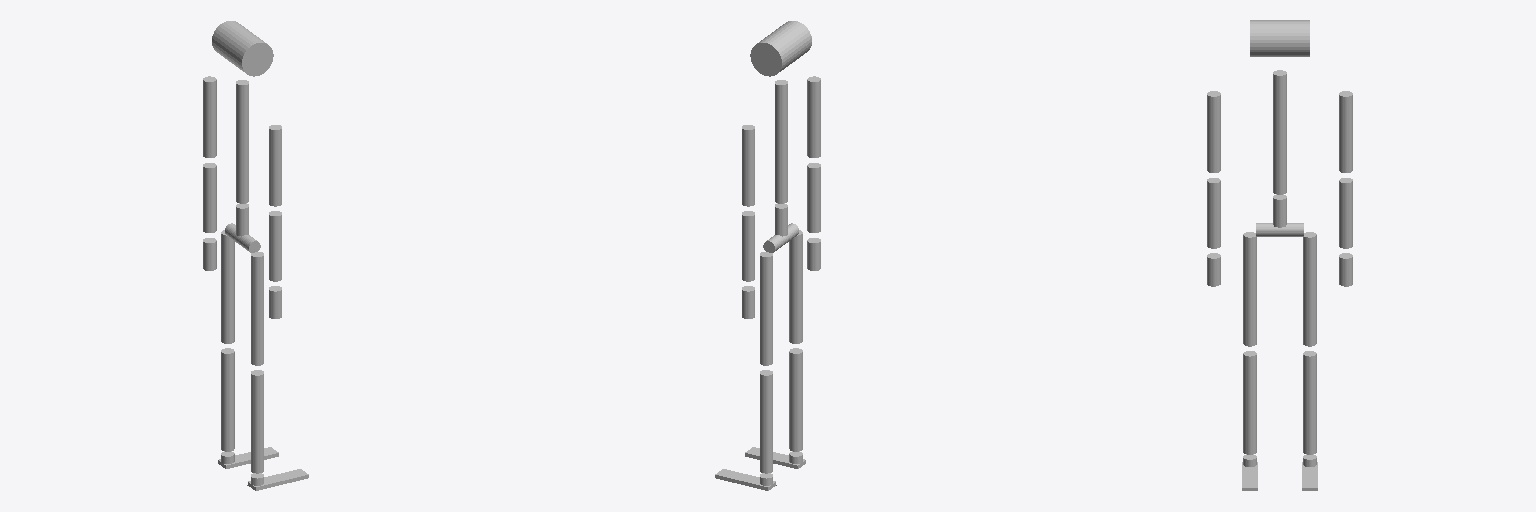
--- Render facts (derived) ---
The picture shows the robot from 3 angles, left to right: view 1: azimuth 30°, elevation 25°; view 2: azimuth 150°, elevation 25°; view 3: azimuth 270°, elevation 25°; orthographic projection.
Robot: atlas — 44 links, 43 joints (27 revolute, 16 fixed); root link base_link; default pose: all joints at 0.
Links seen in each view (by area): view 1: NeckPitch_link, Torso, LHipRoll_link, RHipRoll_link, LKneePitch_link, RKneePitch_link, LShoulderRoll_link, RShoulderRoll_link, LElbowPitch_link, RElbowPitch_link, RFoot; view 2: NeckPitch_link, Torso, RHipRoll_link, LHipRoll_link, RKneePitch_link, LKneePitch_link, RShoulderRoll_link, LShoulderRoll_link, RElbowPitch_link, LElbowPitch_link, LFoot; view 3: NeckPitch_link, Torso, LHipRoll_link, RHipRoll_link, LKneePitch_link, RKneePitch_link, LShoulderRoll_link, RShoulderRoll_link, LElbowPitch_link, RElbowPitch_link, Pelvis-link2.
Boxes of the visible links, <box> form: NeckPitch_link: <box>212,21,273,76</box>; Torso: <box>236,80,248,203</box>; LHipRoll_link: <box>221,230,234,343</box>; RHipRoll_link: <box>251,252,263,365</box>; LKneePitch_link: <box>221,348,234,451</box>; RKneePitch_link: <box>251,370,263,473</box>; LShoulderRoll_link: <box>203,76,216,157</box>; RShoulderRoll_link: <box>269,125,281,206</box>; LElbowPitch_link: <box>203,163,216,232</box>; RElbowPitch_link: <box>269,211,281,281</box>; RFoot: <box>248,469,308,490</box>; NeckPitch_link: <box>750,21,811,76</box>; Torso: <box>775,80,787,203</box>; RHipRoll_link: <box>789,230,802,343</box>; LHipRoll_link: <box>760,252,772,365</box>; RKneePitch_link: <box>789,348,802,451</box>; LKneePitch_link: <box>760,370,772,473</box>; RShoulderRoll_link: <box>807,76,820,157</box>; LShoulderRoll_link: <box>742,125,754,206</box>; RElbowPitch_link: <box>807,163,820,232</box>; LElbowPitch_link: <box>742,211,754,281</box>; LFoot: <box>715,469,775,490</box>; NeckPitch_link: <box>1250,20,1309,56</box>; Torso: <box>1273,70,1286,194</box>; LHipRoll_link: <box>1303,232,1316,346</box>; RHipRoll_link: <box>1243,232,1256,346</box>; LKneePitch_link: <box>1303,351,1316,454</box>; RKneePitch_link: <box>1243,351,1256,454</box>; LShoulderRoll_link: <box>1339,91,1352,172</box>; RShoulderRoll_link: <box>1207,91,1220,172</box>; LElbowPitch_link: <box>1339,178,1352,248</box>; RElbowPitch_link: <box>1207,178,1220,248</box>; Pelvis-link2: <box>1256,223,1303,236</box>.
Bounding box of the posed robot: 0.2672 × 0.5321 × 1.8 m (x, y, z).
Geometry: primitives only (box / cylinder / sphere), no mesh files.

robot.urdf — atlas:
<?xml version="1.0" ?>
<!-- =================================================================================== -->
<!-- |    This document was autogenerated by xacro from atlas_robot_pre_fuerte.urdf.xacro | -->
<!-- |    EDITING THIS FILE BY HAND IS NOT RECOMMENDED                                 | -->
<!-- =================================================================================== -->
<robot name="atlas" xmlns:controller="http://playerstage.sourceforge.net/gazebo/xmlschema/#controller" xmlns:interface="http://playerstage.sourceforge.net/gazebo/xmlschema/#interface" xmlns:sensor="http://playerstage.sourceforge.net/gazebo/xmlschema/#sensor" xmlns:xacro="http://ros.org/wiki/xacro">
  <!--
  ROS urdf definition of Atlas humanoid robot from Boston Dynamics. Represents the kinematic structure of the robot which is based on the 50th percentile male anthropometry,. 

This file has been based upon a similar urdf file for the Nao humanoid robot (by Aldebaran Robotics) provided in the Nao-Stack of University of Freiburg (Authors: Armin Hornung, Stefan Osswald) which is available at: is available at: http://code.google.com/p/alufr-ros-pkg/.

  Joint names and properties are according to the Boston Dynamics Slide during DRC proposers day talk.
  -->
  <material name="LightGrey">
    <color rgba="0.8 0.8 0.8 1.0"/>
  </material>
  <material name="Grey">
    <color rgba="0.6 0.6 0.6 1.0"/>
  </material>
  <material name="DarkGrey">
    <color rgba="0.3 0.3 0.3 1.0"/>
  </material>
  <material name="Black">
    <color rgba="0.1 0.1 0.1 1.0"/>
  </material>
  <link name="base_link">
    <inertial>
      <origin rpy="0 0 0" xyz="0 0 0"/>
      <mass value="0.01"/>
      <inertia ixx="0.0001" ixy="0.0" ixz="0.0" iyy="0.0001" iyz="0.0" izz="0.0001"/>
    </inertial>
  </link>
  <link name="Back">
    <inertial>
      <mass value="0.98"/>
      <inertia ixx="0.0142307887763" ixy="0.0" ixz="0.0" iyy="0.0142307887763" iyz="0.0" izz="0.0232537942048"/>
    </inertial>
  </link>
  <link name="Pelvis-link1">
    <inertial>
      <mass value="2.85"/>
      <inertia ixx="0.0167937478046" ixy="0.0" ixz="0.0" iyy="0.0130953182366" iyz="0.0" izz="0.0188435137939"/>
    </inertial>
    <visual>
      <origin rpy="0 0 0" xyz="0 0 -0.076245974"/>
      <geometry>
        <cylinder length="0.112491948" radius="0.025"/>
      </geometry>
      <material name="LightGrey"/>
    </visual>
    <collision>
      <origin rpy="0 0 0" xyz="0 0 -0.076245974"/>
      <geometry>
        <cylinder length="0.152491948" radius="0.025"/>
      </geometry>
    </collision>
  </link>
  <link name="Pelvis-link2">
    <inertial>
      <mass value="2.85"/>
      <inertia ixx="0.0167937478046" ixy="0.0" ixz="0.0" iyy="0.0188435137939" iyz="0.0" izz="0.0130953182366"/>
    </inertial>
    <visual>
      <origin rpy="1.57079632679 0 0" xyz="0 0 0"/>
      <geometry>
        <cylinder length="0.17784564" radius="0.025"/>
      </geometry>
      <material name="LightGrey"/>
    </visual>
    <collision>
      <origin rpy="1.57079632679 0 0" xyz="0 0 0"/>
      <geometry>
        <cylinder length="0.21784564" radius="0.025"/>
      </geometry>
    </collision>
  </link>
  <link name="BackYaw_link">
    <inertial>
      <mass value="0.98"/>
      <inertia ixx="0.0168406694011" ixy="0.0" ixz="0.0" iyy="0.0168406694011" iyz="0.0" izz="0.0284735554544"/>
    </inertial>
  </link>
  <link name="BackPitch_link">
    <inertial>
      <mass value="0.98"/>
      <inertia ixx="0.0391167022824" ixy="0.0" ixz="0.0" iyy="0.0213060832327" iyz="0.0" izz="0.0230184023975"/>
    </inertial>
  </link>
  <link name="BackRoll_link">
    <inertial>
      <mass value="0.98"/>
      <inertia ixx="0.0391167022824" ixy="0.0" ixz="0.0" iyy="0.0213060832327" iyz="0.0" izz="0.0230184023975"/>
    </inertial>
  </link>
  <link name="Torso">
    <!-- assuming the rotational inertia of the torso is of a cuboid -->
    <inertial>
      <mass value="15.347"/>
      <inertia ixx="0.612575540743" ixy="0.0" ixz="0.0" iyy="0.333657611605" iyz="0.0" izz="0.360472879178"/>
    </inertial>
    <visual>
      <origin rpy="0 0 0" xyz="0.0 0.0 0.23927308"/>
      <geometry>
        <cylinder length="0.47854616" radius="0.025"/>
      </geometry>
      <material name="LightGrey"/>
    </visual>
    <collision>
      <origin rpy="0 0 0" xyz="0.0 0.0 0.23927308"/>
      <geometry>
        <box size=" 0.178562 0.4999736 0.47854616"/>
      </geometry>
    </collision>
  </link>
  <link name="NeckYaw_link">
    <inertial>
      <mass value="0.9"/>
      <inertia ixx="0.00530271247008" ixy="0.0" ixz="0.0" iyy="0.00530271247008" iyz="0.0" izz="0.00201768391825"/>
    </inertial>
  </link>
  <link name="NeckPitch_link">
    <inertial>
      <mass value="0.9"/>
      <inertia ixx="0.00530271247008" ixy="0.0" ixz="0.0" iyy="0.00530271247008" iyz="0.0" izz="0.00201768391825"/>
    </inertial>
    <visual>
      <origin rpy="1.57079632679 0 0" xyz="0 0 0.13749274"/>
      <geometry>
        <cylinder length="0.22141688" radius="0.06696075"/>
        <!--  <sphere radius="${(l_head/2)*height}"/>-->
      </geometry>
      <material name="LightGrey"/>
    </visual>
    <collision>
      <origin rpy="1.57 0 0" xyz="0 0 0.13749274"/>
      <geometry>
        <cylinder length="0.23927308" radius="0.06696075"/>
      </geometry>
    </collision>
  </link>
  <link name="LShoulderYaw_link">
    <inertial>
      <mass value="2.18522222222"/>
      <inertia ixx="0.0231667622255" ixy="0.0" ixz="0.0" iyy="0.0231667622255" iyz="0.0" izz="0.00217732727683"/>
    </inertial>
  </link>
  <link name="LShoulderPitch_link">
    <inertial>
      <mass value="2.18522222222"/>
      <inertia ixx="0.0231667622255" ixy="0.0" ixz="0.0" iyy="0.0231667622255" iyz="0.0" izz="0.00217732727683"/>
    </inertial>
  </link>
  <link name="LShoulderRoll_link">
    <inertial>
      <mass value="2.18522222222"/>
      <inertia ixx="0.0231667622255" ixy="0.0" ixz="0.0" iyy="0.0231667622255" iyz="0.0" izz="0.00217732727683"/>
    </inertial>
    <visual>
      <origin rpy="0 0 0" xyz="0 0 -0.17409795"/>
      <geometry>
        <cylinder length="0.3081959" radius="0.025"/>
      </geometry>
      <material name="LightGrey"/>
    </visual>
    <collision>
      <origin rpy="0 0 0" xyz="0 0 -0.17409795"/>
      <geometry>
        <cylinder length="0.3481959" radius="0.025"/>
      </geometry>
    </collision>
  </link>
  <link name="LElbowPitch_link">
    <inertial>
      <mass value="3.27783333333"/>
      <inertia ixx="0.0268028987778" ixy="0.0" ixz="0.0" iyy="0.0268028987778" iyz="0.0" izz="0.00326599091525"/>
    </inertial>
    <visual>
      <origin rpy="0 0 0" xyz="0 0 -0.1517777"/>
      <geometry>
        <cylinder length="0.2635554" radius="0.025"/>
      </geometry>
      <material name="LightGrey"/>
    </visual>
    <collision>
      <origin rpy="0 0 0" xyz="0 0 -0.1517777"/>
      <geometry>
        <cylinder length="0.3035554" radius="0.025"/>
      </geometry>
    </collision>
  </link>
  <link name="LWristYaw_link">
    <inertial>
      <mass value="1.0"/>
      <inertia ixx="0.0048720194876" ixy="0.0" ixz="0.0" iyy="0.0048720194876" iyz="0.0" izz="0.00199277424025"/>
    </inertial>
  </link>
  <link name="LWristRoll_link">
    <inertial>
      <mass value="1.0"/>
      <inertia ixx="0.0048720194876" ixy="0.0" ixz="0.0" iyy="0.0048720194876" iyz="0.0" izz="0.00199277424025"/>
    </inertial>
    <visual>
      <origin rpy="0 0 0" xyz="0 0 -0.076245974"/>
      <geometry>
        <cylinder length="0.112491948" radius="0.025"/>
      </geometry>
      <material name="LightGrey"/>
    </visual>
    <collision>
      <origin rpy="0 0 0" xyz="0 0 -0.076245974"/>
      <geometry>
        <cylinder length="0.152491948" radius="0.025"/>
      </geometry>
    </collision>
  </link>
  <link name="RShoulderYaw_link">
    <inertial>
      <mass value="2.18522222222"/>
      <inertia ixx="0.0231667622255" ixy="0.0" ixz="0.0" iyy="0.0231667622255" iyz="0.0" izz="0.00217732727683"/>
    </inertial>
  </link>
  <link name="RShoulderPitch_link">
    <inertial>
      <mass value="2.18522222222"/>
      <inertia ixx="0.0231667622255" ixy="0.0" ixz="0.0" iyy="0.0231667622255" iyz="0.0" izz="0.00217732727683"/>
    </inertial>
  </link>
  <link name="RShoulderRoll_link">
    <inertial>
      <mass value="2.18522222222"/>
      <inertia ixx="0.0231667622255" ixy="0.0" ixz="0.0" iyy="0.0231667622255" iyz="0.0" izz="0.00217732727683"/>
    </inertial>
    <visual>
      <origin rpy="0 0 0" xyz="0 0 -0.17409795"/>
      <geometry>
        <cylinder length="0.3081959" radius="0.025"/>
      </geometry>
      <material name="LightGrey"/>
    </visual>
    <collision>
      <origin rpy="0 0 0" xyz="0 0 -0.17409795"/>
      <geometry>
        <cylinder length="0.3481959" radius="0.025"/>
      </geometry>
    </collision>
  </link>
  <link name="RElbowPitch_link">
    <inertial>
      <mass value="3.27783333333"/>
      <inertia ixx="0.0268028987778" ixy="0.0" ixz="0.0" iyy="0.0268028987778" iyz="0.0" izz="0.00326599091525"/>
    </inertial>
    <visual>
      <origin rpy="0 0 0" xyz="0 0 -0.1517777"/>
      <geometry>
        <cylinder length="0.2635554" radius="0.025"/>
      </geometry>
      <material name="LightGrey"/>
    </visual>
    <collision>
      <origin rpy="0 0 0" xyz="0 0 -0.1517777"/>
      <geometry>
        <cylinder length="0.3035554" radius="0.025"/>
      </geometry>
    </collision>
  </link>
  <link name="RWristYaw_link">
    <inertial>
      <mass value="1.0"/>
      <inertia ixx="0.0048720194876" ixy="0.0" ixz="0.0" iyy="0.0048720194876" iyz="0.0" izz="0.00199277424025"/>
    </inertial>
  </link>
  <link name="RWristRoll_link">
    <inertial>
      <mass value="1.0"/>
      <inertia ixx="0.0048720194876" ixy="0.0" ixz="0.0" iyy="0.0048720194876" iyz="0.0" izz="0.00199277424025"/>
    </inertial>
    <visual>
      <origin rpy="0 0 0" xyz="0 0 -0.076245974"/>
      <geometry>
        <cylinder length="0.112491948" radius="0.025"/>
      </geometry>
      <material name="LightGrey"/>
    </visual>
    <collision>
      <origin rpy="0 0 0" xyz="0 0 -0.076245974"/>
      <geometry>
        <cylinder length="0.152491948" radius="0.025"/>
      </geometry>
    </collision>
  </link>
  <link name="LHipYaw_link">
    <inertial>
      <mass value="3.38522222222"/>
      <inertia ixx="0.0670316913245" ixy="0.0" ixz="0.0" iyy="0.0670316913245" iyz="0.0" izz="0.00485710822221"/>
    </inertial>
  </link>
  <link name="LHipPitch_link">
    <inertial>
      <mass value="3.38522222222"/>
      <inertia ixx="0.0670316913245" ixy="0.0" ixz="0.0" iyy="0.0670316913245" iyz="0.0" izz="0.00485710822221"/>
    </inertial>
  </link>
  <link name="LHipRoll_link">
    <inertial>
      <mass value="3.38522222222"/>
      <inertia ixx="0.0670316913245" ixy="0.0" ixz="0.0" iyy="0.0670316913245" iyz="0.0" izz="0.00485710822221"/>
    </inertial>
    <visual>
      <origin rpy="0 0 0" xyz="0.0 0.0 -0.23927308"/>
      <geometry>
        <cylinder length="0.43854616" radius="0.025"/>
      </geometry>
      <material name="LightGrey"/>
    </visual>
    <collision>
      <origin rpy="0 0 0" xyz="0.0 0.0 -0.23927308"/>
      <geometry>
        <cylinder length="0.47854616" radius="0.025"/>
      </geometry>
    </collision>
  </link>
  <link name="LKneePitch_link">
    <inertial>
      <mass value="5.07783333333"/>
      <inertia ixx="0.0839686075882" ixy="0.0" ixz="0.0" iyy="0.0839686075882" iyz="0.0" izz="0.00728566233332"/>
    </inertial>
    <visual>
      <origin rpy="0 0 0" xyz="0 0 -0.21784564"/>
      <geometry>
        <cylinder length="0.39569128" radius="0.025"/>
      </geometry>
      <material name="LightGrey"/>
    </visual>
    <collision>
      <origin rpy="0 0 0" xyz="0 0 -0.21784564"/>
      <geometry>
        <cylinder length="0.43569128" radius="0.025"/>
      </geometry>
    </collision>
  </link>
  <link name="LAnklePitch_link">
    <inertial>
      <mass value="1.0"/>
      <inertia ixx="0.000313145101483" ixy="0.0" ixz="0.0" iyy="0.000313145101483" iyz="0.0" izz="0.0003125"/>
    </inertial>
    <visual>
      <origin rpy="0 0 0" xyz="0 0 -0.021695283"/>
      <geometry>
        <cylinder length="0.043390566" radius="0.025"/>
      </geometry>
      <material name="LightGrey"/>
    </visual>
    <collision>
      <origin rpy="0 0 0" xyz="0 0 -0.021695283"/>
      <geometry>
        <cylinder length="0.043390566" radius="0.025"/>
      </geometry>
    </collision>
  </link>
  <link name="LAnkle">
    <inertial>
      <mass value="1.0"/>
      <inertia ixx="0.000313145101483" ixy="0.0" ixz="0.0" iyy="0.000313145101483" iyz="0.0" izz="0.0003125"/>
    </inertial>
  </link>
  <link name="LFoot">
    <inertial>
      <mass value="2.0"/>
      <inertia ixx="0.0006375" ixy="0.0" ixz="0.0" iyy="0.00509955043915" iyz="0.0" izz="0.00566205043915"/>
    </inertial>
    <visual>
      <origin rpy="0 0 0" xyz="0.087138256 0 0.0075"/>
      <geometry>
        <box size="0.224276512 0.06 0.015"/>
      </geometry>
      <material name="LightGrey"/>
    </visual>
    <collision>
      <origin rpy="0 0 0" xyz="0.087138256 0 0.0075"/>
      <geometry>
        <box size="0.224276512 0.06 0.015"/>
      </geometry>
    </collision>
  </link>
  <link name="LFootToeIn_link">
    <inertial>
      <origin rpy="0 0 0" xyz="0 0 0"/>
      <mass value="0.01"/>
      <inertia ixx="0.0001" ixy="0.0" ixz="0.0" iyy="0.0001" iyz="0.0" izz="0.0001"/>
    </inertial>
    <visual>
      <origin rpy="0 0 0" xyz="0 0 0"/>
      <geometry>
        <sphere radius="0.001"/>
      </geometry>
      <material name="LightGrey"/>
    </visual>
    <collision>
      <origin rpy="0 0 0" xyz="0 0 0"/>
      <geometry>
        <sphere radius="0.0001"/>
        <!-- ~=point contact -->
      </geometry>
    </collision>
  </link>
  <link name="LFootToeOut_link">
    <inertial>
      <origin rpy="0 0 0" xyz="0 0 0"/>
      <mass value="0.01"/>
      <inertia ixx="0.0001" ixy="0.0" ixz="0.0" iyy="0.0001" iyz="0.0" izz="0.0001"/>
    </inertial>
    <visual>
      <origin rpy="0 0 0" xyz="0 0 0"/>
      <geometry>
        <sphere radius="0.001"/>
      </geometry>
      <material name="LightGrey"/>
    </visual>
    <collision>
      <origin rpy="0 0 0" xyz="0 0 0"/>
      <geometry>
        <sphere radius="0.0001"/>
        <!-- ~=point contact -->
      </geometry>
    </collision>
  </link>
  <link name="LFootHeelIn_link">
    <inertial>
      <origin rpy="0 0 0" xyz="0 0 0"/>
      <mass value="0.01"/>
      <inertia ixx="0.0001" ixy="0.0" ixz="0.0" iyy="0.0001" iyz="0.0" izz="0.0001"/>
    </inertial>
    <visual>
      <origin rpy="0 0 0" xyz="0 0 0"/>
      <geometry>
        <sphere radius="0.001"/>
      </geometry>
      <material name="LightGrey"/>
    </visual>
    <collision>
      <origin rpy="0 0 0" xyz="0 0 0"/>
      <geometry>
        <sphere radius="0.0001"/>
        <!-- ~=point contact -->
      </geometry>
    </collision>
  </link>
  <link name="LFootHeelOut_link">
    <inertial>
      <origin rpy="0 0 0" xyz="0 0 0"/>
      <mass value="0.01"/>
      <inertia ixx="0.0001" ixy="0.0" ixz="0.0" iyy="0.0001" iyz="0.0" izz="0.0001"/>
    </inertial>
    <visual>
      <origin rpy="0 0 0" xyz="0 0 0"/>
      <geometry>
        <sphere radius="0.001"/>
      </geometry>
      <material name="LightGrey"/>
    </visual>
    <collision>
      <origin rpy="0 0 0" xyz="0 0 0"/>
      <geometry>
        <sphere radius="0.0001"/>
        <!-- ~=point contact -->
      </geometry>
    </collision>
  </link>
  <link name="RHipYaw_link">
    <inertial>
      <mass value="3.38522222222"/>
      <inertia ixx="0.0670316913245" ixy="0.0" ixz="0.0" iyy="0.0670316913245" iyz="0.0" izz="0.00485710822221"/>
    </inertial>
  </link>
  <link name="RHipPitch_link">
    <inertial>
      <mass value="3.38522222222"/>
      <inertia ixx="0.0670316913245" ixy="0.0" ixz="0.0" iyy="0.0670316913245" iyz="0.0" izz="0.00485710822221"/>
    </inertial>
  </link>
  <link name="RHipRoll_link">
    <inertial>
      <mass value="3.38522222222"/>
      <inertia ixx="0.0670316913245" ixy="0.0" ixz="0.0" iyy="0.0670316913245" iyz="0.0" izz="0.00485710822221"/>
    </inertial>
    <visual>
      <origin rpy="0 0 0" xyz="0.0 0.0 -0.23927308"/>
      <geometry>
        <cylinder length="0.43854616" radius="0.025"/>
      </geometry>
      <material name="LightGrey"/>
    </visual>
    <collision>
      <origin rpy="0 0 0" xyz="0.0 0.0 -0.23927308"/>
      <geometry>
        <cylinder length="0.47854616" radius="0.025"/>
      </geometry>
    </collision>
  </link>
  <link name="RKneePitch_link">
    <inertial>
      <mass value="5.07783333333"/>
      <inertia ixx="0.0839686075882" ixy="0.0" ixz="0.0" iyy="0.0839686075882" iyz="0.0" izz="0.00728566233332"/>
    </inertial>
    <visual>
      <origin rpy="0 0 0" xyz="0 0 -0.21784564"/>
      <geometry>
        <cylinder length="0.39569128" radius="0.025"/>
      </geometry>
      <material name="LightGrey"/>
    </visual>
    <collision>
      <origin rpy="0 0 0" xyz="0 0 -0.21784564"/>
      <geometry>
        <cylinder length="0.43569128" radius="0.025"/>
      </geometry>
    </collision>
  </link>
  <link name="RAnklePitch_link">
    <inertial>
      <mass value="1.0"/>
      <inertia ixx="0.000313145101483" ixy="0.0" ixz="0.0" iyy="0.000313145101483" iyz="0.0" izz="0.0003125"/>
    </inertial>
    <visual>
      <origin rpy="0 0 0" xyz="0 0 -0.021695283"/>
      <geometry>
        <cylinder length="0.043390566" radius="0.025"/>
      </geometry>
      <material name="LightGrey"/>
    </visual>
    <collision>
      <origin rpy="0 0 0" xyz="0 0 -0.021695283"/>
      <geometry>
        <cylinder length="0.043390566" radius="0.025"/>
      </geometry>
    </collision>
  </link>
  <link name="RAnkle">
    <inertial>
      <mass value="1.0"/>
      <inertia ixx="0.000313145101483" ixy="0.0" ixz="0.0" iyy="0.000313145101483" iyz="0.0" izz="0.0003125"/>
    </inertial>
  </link>
  <link name="RFoot">
    <inertial>
      <mass value="2.0"/>
      <inertia ixx="0.0006375" ixy="0.0" ixz="0.0" iyy="0.00509955043915" iyz="0.0" izz="0.00566205043915"/>
    </inertial>
    <visual>
      <origin rpy="0 0 0" xyz="0.087138256 0 0.0075"/>
      <geometry>
        <box size="0.224276512 0.06 0.015"/>
      </geometry>
      <material name="LightGrey"/>
    </visual>
    <collision>
      <origin rpy="0 0 0" xyz="0.087138256 0 0.0075"/>
      <geometry>
        <box size="0.224276512 0.06 0.015"/>
      </geometry>
    </collision>
  </link>
  <link name="RFootToeIn_link">
    <inertial>
      <origin rpy="0 0 0" xyz="0 0 0"/>
      <mass value="0.01"/>
      <inertia ixx="0.0001" ixy="0.0" ixz="0.0" iyy="0.0001" iyz="0.0" izz="0.0001"/>
    </inertial>
    <visual>
      <origin rpy="0 0 0" xyz="0 0 0"/>
      <geometry>
        <sphere radius="0.001"/>
      </geometry>
      <material name="LightGrey"/>
    </visual>
    <collision>
      <origin rpy="0 0 0" xyz="0 0 0"/>
      <geometry>
        <sphere radius="0.0001"/>
        <!-- ~=point contact -->
      </geometry>
    </collision>
  </link>
  <link name="RFootToeOut_link">
    <inertial>
      <origin rpy="0 0 0" xyz="0 0 0"/>
      <mass value="0.01"/>
      <inertia ixx="0.0001" ixy="0.0" ixz="0.0" iyy="0.0001" iyz="0.0" izz="0.0001"/>
    </inertial>
    <visual>
      <origin rpy="0 0 0" xyz="0 0 0"/>
      <geometry>
        <sphere radius="0.001"/>
      </geometry>
      <material name="LightGrey"/>
    </visual>
    <collision>
      <origin rpy="0 0 0" xyz="0 0 0"/>
      <geometry>
        <sphere radius="0.0001"/>
        <!-- ~=point contact -->
      </geometry>
    </collision>
  </link>
  <link name="RFootHeelIn_link">
    <inertial>
      <origin rpy="0 0 0" xyz="0 0 0"/>
      <mass value="0.01"/>
      <inertia ixx="0.0001" ixy="0.0" ixz="0.0" iyy="0.0001" iyz="0.0" izz="0.0001"/>
    </inertial>
    <visual>
      <origin rpy="0 0 0" xyz="0 0 0"/>
      <geometry>
        <sphere radius="0.001"/>
      </geometry>
      <material name="LightGrey"/>
    </visual>
    <collision>
      <origin rpy="0 0 0" xyz="0 0 0"/>
      <geometry>
        <sphere radius="0.0001"/>
        <!-- ~=point contact -->
      </geometry>
    </collision>
  </link>
  <link name="RFootHeelOut_link">
    <inertial>
      <origin rpy="0 0 0" xyz="0 0 0"/>
      <mass value="0.01"/>
      <inertia ixx="0.0001" ixy="0.0" ixz="0.0" iyy="0.0001" iyz="0.0" izz="0.0001"/>
    </inertial>
    <visual>
      <origin rpy="0 0 0" xyz="0 0 0"/>
      <geometry>
        <sphere radius="0.001"/>
      </geometry>
      <material name="LightGrey"/>
    </visual>
    <collision>
      <origin rpy="0 0 0" xyz="0 0 0"/>
      <geometry>
        <sphere radius="0.0001"/>
        <!-- ~=point contact -->
      </geometry>
    </collision>
  </link>
  <joint name="base_joint" type="fixed">
    <child link="Back"/>
    <parent link="base_link"/>
    <origin rpy="0 0 0" xyz="0 0 0"/>
  </joint>
  <joint name="BackYaw" type="revolute">
    <parent link="Back"/>
    <child link="BackYaw_link"/>
    <origin rpy="0 0 0" xyz="0 0 0.0"/>
    <axis xyz="0 0 1"/>
    <limit effort="110" lower="-0.78539816295" upper="0.78539816295" velocity="3"/>
    <dynamics damping="1" friction="10"/>
  </joint>
  <transmission name="BackYaw_trans" type="SimpleTransmission">
    <actuator name="BackYawTorque"/>
    <joint name="BackYaw"/>
    <mechanicalReduction>1</mechanicalReduction>
  </transmission>
  <joint name="BackPitch" type="revolute">
    <parent link="BackYaw_link"/>
    <child link="BackPitch_link"/>
    <origin rpy="0 0 0" xyz="0 0 0"/>
    <axis xyz="0 1 0"/>
    <limit effort="180" lower="-0.61086523785" upper="0.43633231275" velocity="3"/>
    <dynamics damping="1" friction="10"/>
  </joint>
  <transmission name="BackPitch_trans" type="SimpleTransmission">
    <actuator name="BackPitchTorque"/>
    <joint name="BackPitch"/>
    <mechanicalReduction>1</mechanicalReduction>
  </transmission>
  <joint name="BackRoll" type="revolute">
    <parent link="BackPitch_link"/>
    <child link="BackRoll_link"/>
    <origin rpy="0 0 0" xyz="0 0 0"/>
    <axis xyz="1 0 0"/>
    <limit effort="100" lower="-0.6981317004" upper="0.6981317004" velocity="3"/>
    <dynamics damping="1" friction="10"/>
  </joint>
  <transmission name="BackRoll_trans" type="SimpleTransmission">
    <actuator name="BackRollTorque"/>
    <joint name="BackRoll"/>
    <mechanicalReduction>1</mechanicalReduction>
  </transmission>
  <joint name="BackRoll_Torso_joint" type="fixed">
    <child link="Torso"/>
    <parent link="BackRoll_link"/>
    <origin rpy="0 0 0" xyz="0 0 0"/>
  </joint>
  <joint name="NeckYaw" type="revolute">
    <parent link="Torso"/>
    <child link="NeckYaw_link"/>
    <origin rpy="0 0 0" xyz="0 0 0.47854616"/>
    <axis xyz="0 0 1"/>
    <limit effort="54" lower="-1.5707963259" upper="1.5707963259" velocity="3"/>
    <dynamics damping="1" friction="10"/>
  </joint>
  <transmission name="NeckYaw_trans" type="SimpleTransmission">
    <actuator name="NeckYawTorque"/>
    <joint name="NeckYaw"/>
    <mechanicalReduction>1</mechanicalReduction>
  </transmission>
  <joint name="NeckPitch" type="revolute">
    <parent link="NeckYaw_link"/>
    <child link="NeckPitch_link"/>
    <origin rpy="0 0 0" xyz="0 0 0"/>
    <axis xyz="0 1 0"/>
    <limit effort="25" lower="-0.78539816295" upper="0.78539816295" velocity="3"/>
    <dynamics damping="1" friction="10"/>
  </joint>
  <transmission name="NeckPitch_trans" type="SimpleTransmission">
    <actuator name="NeckPitchTorque"/>
    <joint name="NeckPitch"/>
    <mechanicalReduction>1</mechanicalReduction>
  </transmission>
  <joint name="LShoulderRoll" type="revolute">
    <parent link="LShoulderPitch_link"/>
    <child link="LShoulderRoll_link"/>
    <origin rpy="0 0 0" xyz="0 0 0"/>
    <axis xyz="1 0 0"/>
    <limit effort="110" lower="0.0" upper="2.00712863865" velocity="3"/>
    <dynamics damping="1" friction="10"/>
  </joint>
  <transmission name="LShoulderRoll_trans" type="SimpleTransmission">
    <actuator name="LShoulderRollTorque"/>
    <joint name="LShoulderRoll"/>
    <mechanicalReduction>1</mechanicalReduction>
  </transmission>
  <joint name="RShoulderRoll" type="revolute">
    <parent link="RShoulderPitch_link"/>
    <child link="RShoulderRoll_link"/>
    <origin rpy="0 0 0" xyz="0 0 0"/>
    <axis xyz="1 0 0"/>
    <limit effort="110" lower="-2.00712863865" upper="-0.0" velocity="3"/>
    <dynamics damping="1" friction="10"/>
  </joint>
  <transmission name="RShoulderRoll_trans" type="SimpleTransmission">
    <actuator name="RShoulderRollTorque"/>
    <joint name="RShoulderRoll"/>
    <mechanicalReduction>1</mechanicalReduction>
  </transmission>
  <joint name="LShoulderYaw" type="revolute">
    <parent link="BackRoll_link"/>
    <child link="LShoulderYaw_link"/>
    <origin rpy="0 0 0" xyz="0 0.2410587 0.41426384"/>
    <axis xyz="0 0 1"/>
    <limit effort="80" lower="-0.6981317004" upper="1.745329251" velocity="3"/>
    <dynamics damping="1" friction="10"/>
  </joint>
  <transmission name="LShoulderYaw_trans" type="SimpleTransmission">
    <actuator name="LShoulderYawTorque"/>
    <joint name="LShoulderYaw"/>
    <mechanicalReduction>1</mechanicalReduction>
  </transmission>
  <joint name="LShoulderPitch" type="revolute">
    <parent link="LShoulderYaw_link"/>
    <child link="LShoulderPitch_link"/>
    <origin rpy="0 0 0" xyz="0 0 0"/>
    <axis xyz="0 1 0"/>
    <limit effort="110" lower="-1.5707963259" upper="0.8726646255" velocity="3"/>
    <dynamics damping="1" friction="10"/>
  </joint>
  <transmission name="LShoulderPitch_trans" type="SimpleTransmission">
    <actuator name="LShoulderPitchTorque"/>
    <joint name="LShoulderPitch"/>
    <mechanicalReduction>1</mechanicalReduction>
  </transmission>
  <joint name="LElbowPitch" type="revolute">
    <parent link="LShoulderRoll_link"/>
    <child link="LElbowPitch_link"/>
    <origin rpy="0 0 0" xyz="0 0 -0.3481959"/>
    <axis xyz="0 1 0"/>
    <limit effort="100" lower="-2.35619448885" upper="0.0" velocity="3"/>
    <dynamics damping="1" friction="10"/>
  </joint>
  <transmission name="LElbowPitch_trans" type="SimpleTransmission">
    <actuator name="LElbowPitchTorque"/>
    <joint name="LElbowPitch"/>
    <mechanicalReduction>1</mechanicalReduction>
  </transmission>
  <joint name="LWristYaw" type="revolute">
    <parent link="LElbowPitch_link"/>
    <child link="LWristYaw_link"/>
    <origin rpy="0 0 0" xyz="0 0 -0.3035554"/>
    <axis xyz="0 0 1"/>
    <limit effort="15" lower="-1.48352986335" upper="1.48352986335" velocity="3"/>
    <dynamics damping="1" friction="10"/>
  </joint>
  <transmission name="LWristYaw_trans" type="SimpleTransmission">
    <actuator name="LWristYawTorque"/>
    <joint name="LWristYaw"/>
    <mechanicalReduction>1</mechanicalReduction>
  </transmission>
  <joint name="RShoulderYaw" type="revolute">
    <parent link="BackRoll_link"/>
    <child link="RShoulderYaw_link"/>
    <origin rpy="0 0 0" xyz="0 -0.2410587 0.41426384"/>
    <axis xyz="0 0 1"/>
    <limit effort="80" lower="-0.6981317004" upper="1.745329251" velocity="3"/>
    <dynamics damping="1" friction="10"/>
  </joint>
  <transmission name="RShoulderYaw_trans" type="SimpleTransmission">
    <actuator name="RShoulderYawTorque"/>
    <joint name="RShoulderYaw"/>
    <mechanicalReduction>1</mechanicalReduction>
  </transmission>
  <joint name="RShoulderPitch" type="revolute">
    <parent link="RShoulderYaw_link"/>
    <child link="RShoulderPitch_link"/>
    <origin rpy="0 0 0" xyz="0 0 0"/>
    <axis xyz="0 1 0"/>
    <limit effort="110" lower="-1.5707963259" upper="0.8726646255" velocity="3"/>
    <dynamics damping="1" friction="10"/>
  </joint>
  <transmission name="RShoulderPitch_trans" type="SimpleTransmission">
    <actuator name="RShoulderPitchTorque"/>
    <joint name="RShoulderPitch"/>
    <mechanicalReduction>1</mechanicalReduction>
  </transmission>
  <joint name="RElbowPitch" type="revolute">
    <parent link="RShoulderRoll_link"/>
    <child link="RElbowPitch_link"/>
    <origin rpy="0 0 0" xyz="0 0 -0.3481959"/>
    <axis xyz="0 1 0"/>
    <limit effort="100" lower="-2.35619448885" upper="0.0" velocity="3"/>
    <dynamics damping="1" friction="10"/>
  </joint>
  <transmission name="RElbowPitch_trans" type="SimpleTransmission">
    <actuator name="RElbowPitchTorque"/>
    <joint name="RElbowPitch"/>
    <mechanicalReduction>1</mechanicalReduction>
  </transmission>
  <joint name="RWristYaw" type="revolute">
    <parent link="RElbowPitch_link"/>
    <child link="RWristYaw_link"/>
    <origin rpy="0 0 0" xyz="0 0 -0.3035554"/>
    <axis xyz="0 0 1"/>
    <limit effort="15" lower="-1.48352986335" upper="1.48352986335" velocity="3"/>
    <dynamics damping="1" friction="10"/>
  </joint>
  <transmission name="RWristYaw_trans" type="SimpleTransmission">
    <actuator name="RWristYawTorque"/>
    <joint name="RWristYaw"/>
    <mechanicalReduction>1</mechanicalReduction>
  </transmission>
  <joint name="LWristRoll" type="revolute">
    <parent link="LWristYaw_link"/>
    <child link="LWristRoll_link"/>
    <origin rpy="0 0 0" xyz="0 0 0"/>
    <axis xyz="1 0 0"/>
    <limit effort="30" lower="-0.5235987753" upper="1.0471975506" velocity="3"/>
    <dynamics damping="1" friction="10"/>
  </joint>
  <transmission name="LWristRoll_trans" type="SimpleTransmission">
    <actuator name="LWristRollTorque"/>
    <joint name="LWristRoll"/>
    <mechanicalReduction>1</mechanicalReduction>
  </transmission>
  <joint name="RWristRoll" type="revolute">
    <parent link="RWristYaw_link"/>
    <child link="RWristRoll_link"/>
    <origin rpy="0 0 0" xyz="0 0 0"/>
    <axis xyz="1 0 0"/>
    <limit effort="30" lower="-1.0471975506" upper="0.5235987753" velocity="3"/>
    <dynamics damping="1" friction="10"/>
  </joint>
  <transmission name="RWristRoll_trans" type="SimpleTransmission">
    <actuator name="RWristRollTorque"/>
    <joint name="RWristRoll"/>
    <mechanicalReduction>1</mechanicalReduction>
  </transmission>
  <joint name="Back_Pelvis_Joint" type="fixed">
    <parent link="Back"/>
    <child link="Pelvis-link1"/>
    <origin rpy="0 0 0" xyz="0 0 0"/>
  </joint>
  <joint name="Mid_Pelvis_Joint" type="fixed">
    <parent link="Pelvis-link1"/>
    <child link="Pelvis-link2"/>
    <origin rpy="0 0 0" xyz="0 0 -0.152491948"/>
  </joint>
  <joint name="LHipYaw" type="revolute">
    <parent link="Pelvis-link2"/>
    <child link="LHipYaw_link"/>
    <origin rpy="0 0 0" xyz="0 0.10892282 0"/>
    <axis xyz="0 0 1"/>
    <limit effort="110" lower="-0.1745329251" upper="1.2217304757" velocity="3"/>
    <dynamics damping="1" friction="10"/>
  </joint>
  <transmission name="LHipYaw_trans" type="SimpleTransmission">
    <actuator name="LHipYawTorque"/>
    <joint name="LHipYaw"/>
    <mechanicalReduction>1</mechanicalReduction>
  </transmission>
  <joint name="RHipYaw" type="revolute">
    <parent link="Pelvis-link2"/>
    <child link="RHipYaw_link"/>
    <origin rpy="0 0 0" xyz="0 -0.10892282 0"/>
    <axis xyz="0 0 1"/>
    <limit effort="110" lower="-1.2217304757" upper="0.1745329251" velocity="3"/>
    <dynamics damping="1" friction="10"/>
  </joint>
  <transmission name="RHipYaw_trans" type="SimpleTransmission">
    <actuator name="RHipYawTorque"/>
    <joint name="RHipYaw"/>
    <mechanicalReduction>1</mechanicalReduction>
  </transmission>
  <joint name="LHipPitch" type="revolute">
    <parent link="LHipYaw_link"/>
    <child link="LHipPitch_link"/>
    <origin rpy="0 0 0" xyz="0 0 0"/>
    <axis xyz="0 1 0"/>
    <limit effort="260" lower="-1.745329251" upper="0.3490658502" velocity="3"/>
    <dynamics damping="1" friction="10"/>
  </joint>
  <transmission name="LHipPitch_trans" type="SimpleTransmission">
    <actuator name="LHipPitchTorque"/>
    <joint name="LHipPitch"/>
    <mechanicalReduction>1</mechanicalReduction>
  </transmission>
  <joint name="LHipRoll" type="revolute">
    <parent link="LHipPitch_link"/>
    <child link="LHipRoll_link"/>
    <origin rpy="0 0 0" xyz="0 0 0"/>
    <axis xyz="1 0 0"/>
    <limit effort="180" lower="-0.3490658502" upper="0.3490658502" velocity="3"/>
    <dynamics damping="1" friction="10"/>
  </joint>
  <transmission name="LHipRoll_trans" type="SimpleTransmission">
    <actuator name="LHipRollTorque"/>
    <joint name="LHipRoll"/>
    <mechanicalReduction>1</mechanicalReduction>
  </transmission>
  <joint name="LKneePitch" type="revolute">
    <parent link="LHipRoll_link"/>
    <child link="LKneePitch_link"/>
    <origin rpy="0 0 0" xyz="0 0 -0.47854616"/>
    <axis xyz="0 1 0"/>
    <limit effort="220" lower="0.0" upper="2.35619448885" velocity="3"/>
    <dynamics damping="1" friction="10"/>
  </joint>
  <transmission name="LKneePitch_trans" type="SimpleTransmission">
    <actuator name="LKneePitchTorque"/>
    <joint name="LKneePitch"/>
    <mechanicalReduction>1</mechanicalReduction>
  </transmission>
  <joint name="LAnklePitch" type="revolute">
    <parent link="LKneePitch_link"/>
    <child link="LAnklePitch_link"/>
    <origin rpy="0 0 0" xyz="0 0 -0.43569128"/>
    <axis xyz="0 1 0"/>
    <limit effort="220" lower="-0.6981317004" upper="0.6981317004" velocity="3"/>
    <dynamics damping="1" friction="10"/>
  </joint>
  <transmission name="LAnklePitch_trans" type="SimpleTransmission">
    <actuator name="LAnklePitchTorque"/>
    <joint name="LAnklePitch"/>
    <mechanicalReduction>1</mechanicalReduction>
  </transmission>
  <joint name="LAnkle_joint" type="fixed">
    <parent link="LAnklePitch_link"/>
    <child link="LAnkle"/>
    <origin xyz="0 0 0"/>
  </joint>
  <joint name="LFoot_joint" type="fixed">
    <parent link="LAnklePitch_link"/>
    <child link="LFoot"/>
    <origin xyz="0 0 -0.04519"/>
  </joint>
  <joint name="LFootToeIn_joint" type="fixed">
    <parent link="LAnklePitch_link"/>
    <child link="LFootToeIn_link"/>
    <origin xyz="0.199276512 -0.03 -0.04519"/>
  </joint>
  <joint name="LFootToeOut_joint" type="fixed">
    <parent link="LAnklePitch_link"/>
    <child link="LFootToeOut_link"/>
    <origin xyz="0.199276512 0.03 -0.04519"/>
  </joint>
  <joint name="LFootHeelIn_joint" type="fixed">
    <parent link="LAnklePitch_link"/>
    <child link="LFootHeelIn_link"/>
    <origin xyz="-0.025 -0.03 -0.04519"/>
  </joint>
  <joint name="LFootHeelOut_joint" type="fixed">
    <parent link="LAnklePitch_link"/>
    <child link="LFootHeelOut_link"/>
    <origin xyz="-0.025 0.03 -0.04519"/>
  </joint>
  <joint name="RHipPitch" type="revolute">
    <parent link="RHipYaw_link"/>
    <child link="RHipPitch_link"/>
    <origin rpy="0 0 0" xyz="0 0 0"/>
    <axis xyz="0 1 0"/>
    <limit effort="260" lower="-1.745329251" upper="0.3490658502" velocity="3"/>
    <dynamics damping="1" friction="10"/>
  </joint>
  <transmission name="RHipPitch_trans" type="SimpleTransmission">
    <actuator name="RHipPitchTorque"/>
    <joint name="RHipPitch"/>
    <mechanicalReduction>1</mechanicalReduction>
  </transmission>
  <joint name="RHipRoll" type="revolute">
    <parent link="RHipPitch_link"/>
    <child link="RHipRoll_link"/>
    <origin rpy="0 0 0" xyz="0 0 0"/>
    <axis xyz="1 0 0"/>
    <limit effort="180" lower="-0.3490658502" upper="0.3490658502" velocity="3"/>
    <dynamics damping="1" friction="10"/>
  </joint>
  <transmission name="RHipRoll_trans" type="SimpleTransmission">
    <actuator name="RHipRollTorque"/>
    <joint name="RHipRoll"/>
    <mechanicalReduction>1</mechanicalReduction>
  </transmission>
  <joint name="RKneePitch" type="revolute">
    <parent link="RHipRoll_link"/>
    <child link="RKneePitch_link"/>
    <origin rpy="0 0 0" xyz="0 0 -0.47854616"/>
    <axis xyz="0 1 0"/>
    <limit effort="220" lower="0.0" upper="2.35619448885" velocity="3"/>
    <dynamics damping="1" friction="10"/>
  </joint>
  <transmission name="RKneePitch_trans" type="SimpleTransmission">
    <actuator name="RKneePitchTorque"/>
    <joint name="RKneePitch"/>
    <mechanicalReduction>1</mechanicalReduction>
  </transmission>
  <joint name="RAnklePitch" type="revolute">
    <parent link="RKneePitch_link"/>
    <child link="RAnklePitch_link"/>
    <origin rpy="0 0 0" xyz="0 0 -0.43569128"/>
    <axis xyz="0 1 0"/>
    <limit effort="220" lower="-0.6981317004" upper="0.6981317004" velocity="3"/>
    <dynamics damping="1" friction="10"/>
  </joint>
  <transmission name="RAnklePitch_trans" type="SimpleTransmission">
    <actuator name="RAnklePitchTorque"/>
    <joint name="RAnklePitch"/>
    <mechanicalReduction>1</mechanicalReduction>
  </transmission>
  <joint name="RAnkle_joint" type="fixed">
    <parent link="RAnklePitch_link"/>
    <child link="RAnkle"/>
    <origin xyz="0 0 0"/>
  </joint>
  <joint name="RFoot_joint" type="fixed">
    <parent link="RAnklePitch_link"/>
    <child link="RFoot"/>
    <origin xyz="0 0 -0.04519"/>
  </joint>
  <joint name="RFootToeIn_joint" type="fixed">
    <parent link="RAnklePitch_link"/>
    <child link="RFootToeIn_link"/>
    <origin xyz="0.199276512 0.03 -0.04519"/>
  </joint>
  <joint name="RFootToeOut_joint" type="fixed">
    <parent link="RAnklePitch_link"/>
    <child link="RFootToeOut_link"/>
    <origin xyz="0.199276512 -0.03 -0.04519"/>
  </joint>
  <joint name="RFootHeelIn_joint" type="fixed">
    <parent link="RAnklePitch_link"/>
    <child link="RFootHeelIn_link"/>
    <origin xyz="-0.025 0.03 -0.04519"/>
  </joint>
  <joint name="RFootHeelOut_joint" type="fixed">
    <parent link="RAnklePitch_link"/>
    <child link="RFootHeelOut_link"/>
    <origin xyz="-0.025 -0.03 -0.04519"/>
  </joint>
  <gazebo reference="LFootToeIn_link">
    <selfCollide>false</selfCollide>
    <sensor:contact name="LFootToeIn_contact_sensor">
      <geom>LFootToeIn_link_geom</geom>
      <updateRate>100.0</updateRate>
      <controller:gazebo_ros_bumper name="LFootToeIn_gazebo_ros_bumper_controller" plugin="libgazebo_ros_bumper.so">
        <alwaysOn>true</alwaysOn>
        <updateRate>100.0</updateRate>
        <bumperTopicName>LFootToeIn_bumper</bumperTopicName>
        <interface:bumper name="LFootToeIn_bumper_iface"/>
      </controller:gazebo_ros_bumper>
    </sensor:contact>
  </gazebo>
  <gazebo reference="LFootToeOut_link">
    <selfCollide>false</selfCollide>
    <sensor:contact name="LFootToeOut_contact_sensor">
      <geom>LFootToeOut_link_geom</geom>
      <updateRate>100.0</updateRate>
      <controller:gazebo_ros_bumper name="LFootToeOut_gazebo_ros_bumper_controller" plugin="libgazebo_ros_bumper.so">
        <alwaysOn>true</alwaysOn>
        <updateRate>100.0</updateRate>
        <bumperTopicName>LFootToeOut_bumper</bumperTopicName>
        <interface:bumper name="LFootToeOut_bumper_iface"/>
      </controller:gazebo_ros_bumper>
    </sensor:contact>
  </gazebo>
  <gazebo reference="LFootHeelIn_link">
    <selfCollide>false</selfCollide>
    <sensor:contact name="LFootHeelIn_contact_sensor">
      <geom>LFootHeelIn_link_geom</geom>
      <updateRate>100.0</updateRate>
      <controller:gazebo_ros_bumper name="LFootHeelIn_gazebo_ros_bumper_controller" plugin="libgazebo_ros_bumper.so">
        <alwaysOn>true</alwaysOn>
        <updateRate>100.0</updateRate>
        <bumperTopicName>LFootHeelIn_bumper</bumperTopicName>
        <interface:bumper name="LFootHeelIn_bumper_iface"/>
      </controller:gazebo_ros_bumper>
    </sensor:contact>
  </gazebo>
  <gazebo reference="LFootHeelOut_link">
    <selfCollide>false</selfCollide>
    <sensor:contact name="LFootHeelOut_contact_sensor">
      <geom>LFootHeelOut_link_geom</geom>
      <updateRate>100.0</updateRate>
      <controller:gazebo_ros_bumper name="LFootHeelOut_gazebo_ros_bumper_controller" plugin="libgazebo_ros_bumper.so">
        <alwaysOn>true</alwaysOn>
        <updateRate>100.0</updateRate>
        <bumperTopicName>LFootHeelOut_bumper</bumperTopicName>
        <interface:bumper name="LFootHeelOut_bumper_iface"/>
      </controller:gazebo_ros_bumper>
    </sensor:contact>
  </gazebo>
  <gazebo reference="RFootToeIn_link">
    <selfCollide>false</selfCollide>
    <sensor:contact name="RFootToeIn_contact_sensor">
      <geom>RFootToeIn_link_geom</geom>
      <updateRate>100.0</updateRate>
      <controller:gazebo_ros_bumper name="RFootToeIn_gazebo_ros_bumper_controller" plugin="libgazebo_ros_bumper.so">
        <alwaysOn>true</alwaysOn>
        <updateRate>100.0</updateRate>
        <bumperTopicName>RFootToeIn_bumper</bumperTopicName>
        <interface:bumper name="RFootToeIn_bumper_iface"/>
      </controller:gazebo_ros_bumper>
    </sensor:contact>
  </gazebo>
  <gazebo reference="RFootToeOut_link">
    <selfCollide>false</selfCollide>
    <sensor:contact name="RFootToeOut_contact_sensor">
      <geom>RFootToeOut_link_geom</geom>
      <updateRate>100.0</updateRate>
      <controller:gazebo_ros_bumper name="RFootToeOut_gazebo_ros_bumper_controller" plugin="libgazebo_ros_bumper.so">
        <alwaysOn>true</alwaysOn>
        <updateRate>100.0</updateRate>
        <bumperTopicName>RFootToeOut_bumper</bumperTopicName>
        <interface:bumper name="RFootToeOut_bumper_iface"/>
      </controller:gazebo_ros_bumper>
    </sensor:contact>
  </gazebo>
  <gazebo reference="RFootHeelIn_link">
    <selfCollide>false</selfCollide>
    <sensor:contact name="RFootHeelIn_contact_sensor">
      <geom>RFootHeelIn_link_geom</geom>
      <updateRate>100.0</updateRate>
      <controller:gazebo_ros_bumper name="RFootHeelIn_gazebo_ros_bumper_controller" plugin="libgazebo_ros_bumper.so">
        <alwaysOn>true</alwaysOn>
        <updateRate>100.0</updateRate>
        <bumperTopicName>RFootHeelIn_bumper</bumperTopicName>
        <interface:bumper name="RFootHeelIn_bumper_iface"/>
      </controller:gazebo_ros_bumper>
    </sensor:contact>
  </gazebo>
  <gazebo reference="RFootHeelOut_link">
    <selfCollide>false</selfCollide>
    <sensor:contact name="RFootHeelOut_contact_sensor">
      <geom>RFootHeelOut_link_geom</geom>
      <updateRate>100.0</updateRate>
      <controller:gazebo_ros_bumper name="RFootHeelOut_gazebo_ros_bumper_controller" plugin="libgazebo_ros_bumper.so">
        <alwaysOn>true</alwaysOn>
        <updateRate>100.0</updateRate>
        <bumperTopicName>RFootHeelOut_bumper</bumperTopicName>
        <interface:bumper name="RFootHeelOut_bumper_iface"/>
      </controller:gazebo_ros_bumper>
    </sensor:contact>
  </gazebo>
  <gazebo>
    <!-- 
            <controller:gazebo_ros_p3d name="p3d_base_controller" plugin="libgazebo_ros_p3d.so">
                <alwaysOn>true</alwaysOn>
                <updateRate>100.0</updateRate>
                <bodyName>base_link</bodyName>
                <topicName>base_pose_ground_truth</topicName>
                <gaussianNoise>0.01</gaussianNoise>
                <frameName>map</frameName>
                <xyzOffsets>0 0 0</xyzOffsets> 
                <rpyOffsets>0 0 0</rpyOffsets>
                <interface:position name="p3d_base_position"/>
            </controller:gazebo_ros_p3d>-->
    <!-- this publishes empty joint_states due to no transmission, but
             triggering robot_state_publisher to publish tf between fixed joints in erratic,
             (e.g. base_laser_link for the base_scan frame) -->
    <!--   <controller:gazebo_ros_controller_manager name="gazebo_ros_controller_manager" plugin="libgazebo_ros_controller_manager.so">
                <alwaysOn>true</alwaysOn>
                <updateRate>100.0</updateRate>
                <interface:audio name="gazebo_ros_controller_manager_dummy_iface" />
            </controller:gazebo_ros_controller_manager>-->
    <controller:gazebo_ros_pub_robot_state name="gazebo_ros_pub_robot_controller" plugin="libgazebo_ros_pub_robot_state_pre_fuerte.so">
      <alwaysOn>true</alwaysOn>
      <updateRate>100.0</updateRate>
      <topicName>true_robot_state</topicName>
    </controller:gazebo_ros_pub_robot_state>
  </gazebo>
</robot>
